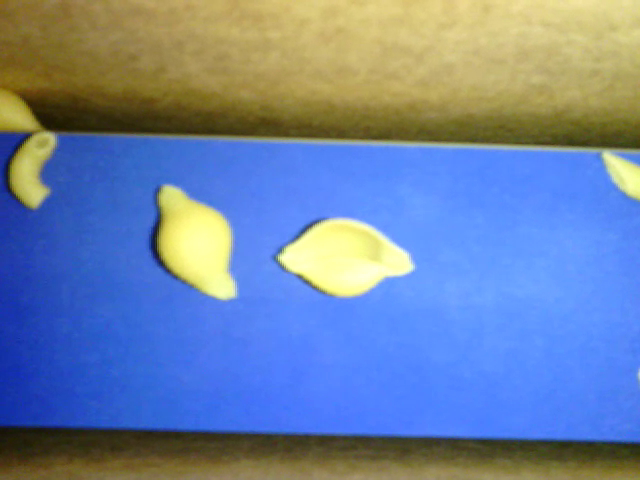elbow: (9, 129, 56, 209)
penne: (600, 151, 639, 202)
shell: (277, 217, 413, 302), (156, 183, 237, 300)
